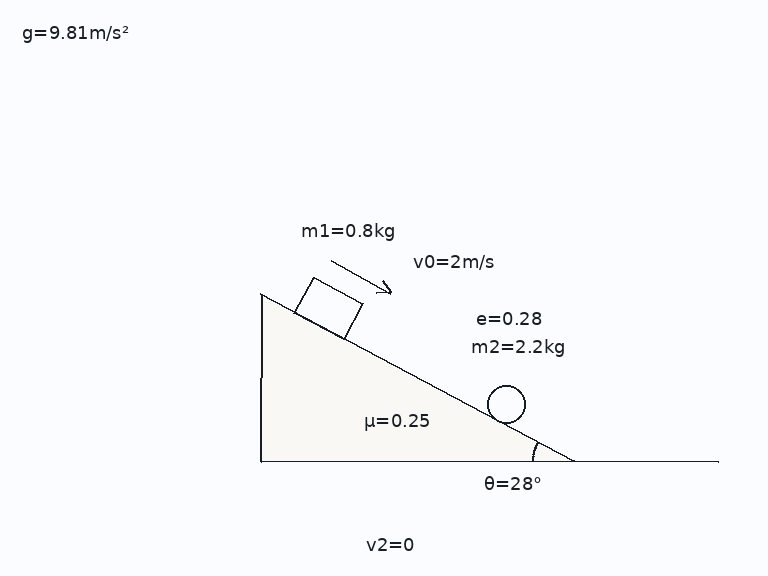ball: (485, 383, 527, 425)
block: (292, 275, 364, 341)
ramp: (258, 293, 575, 463)
